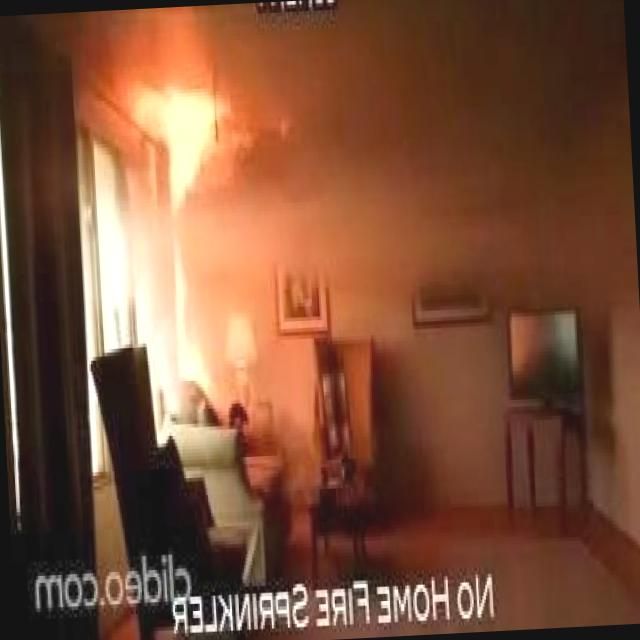fire: (95, 4, 254, 417)
